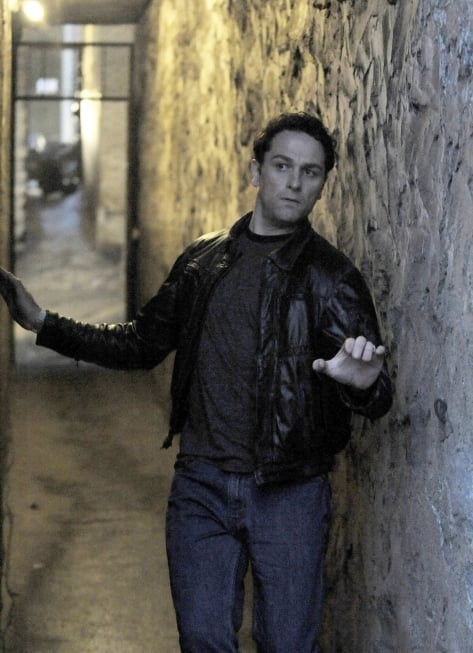face_no_mask: (250, 113, 337, 229)
